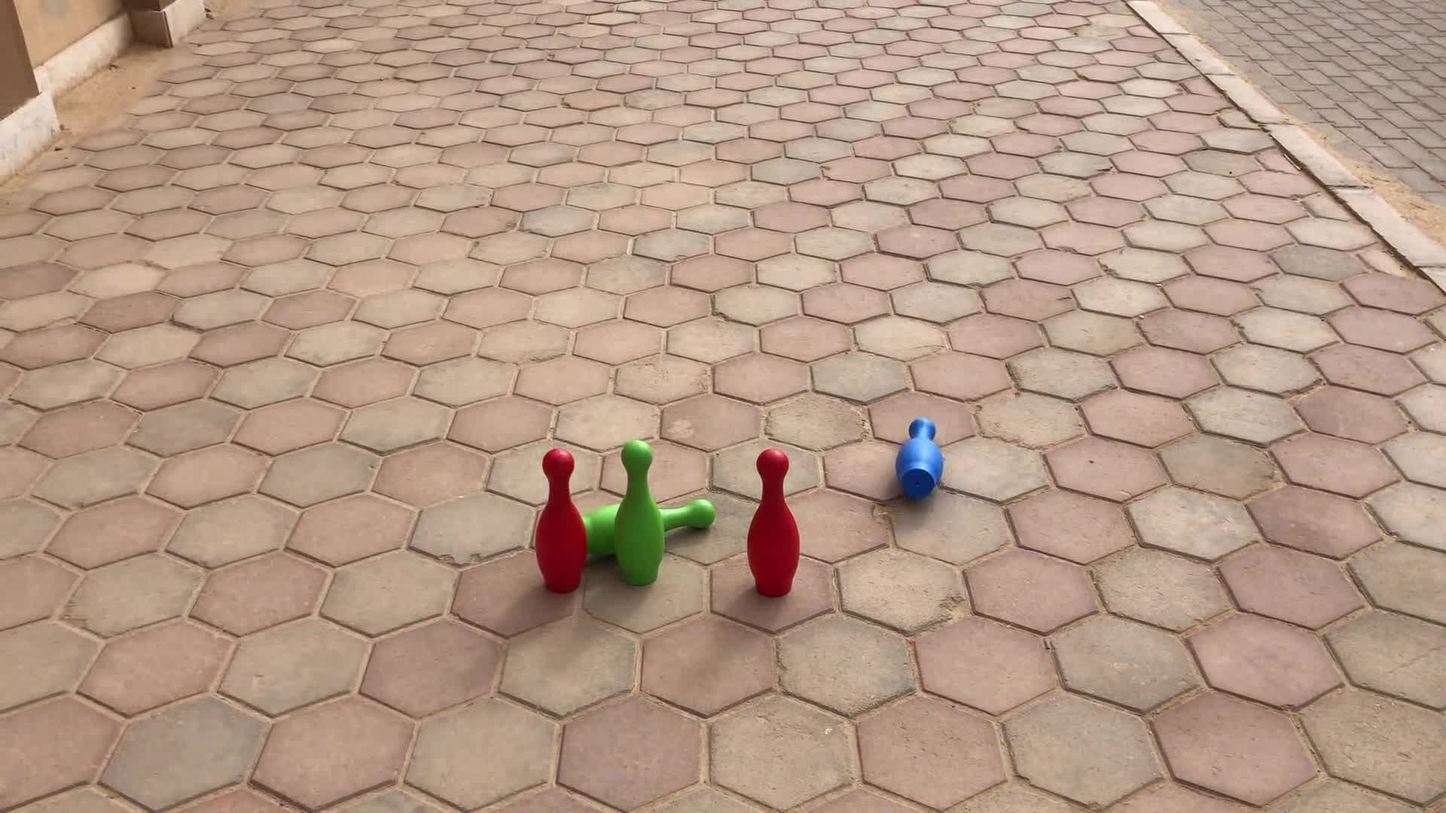bowling-pin: (746, 449, 800, 596), (534, 449, 587, 593), (615, 440, 664, 586), (898, 418, 945, 501)
